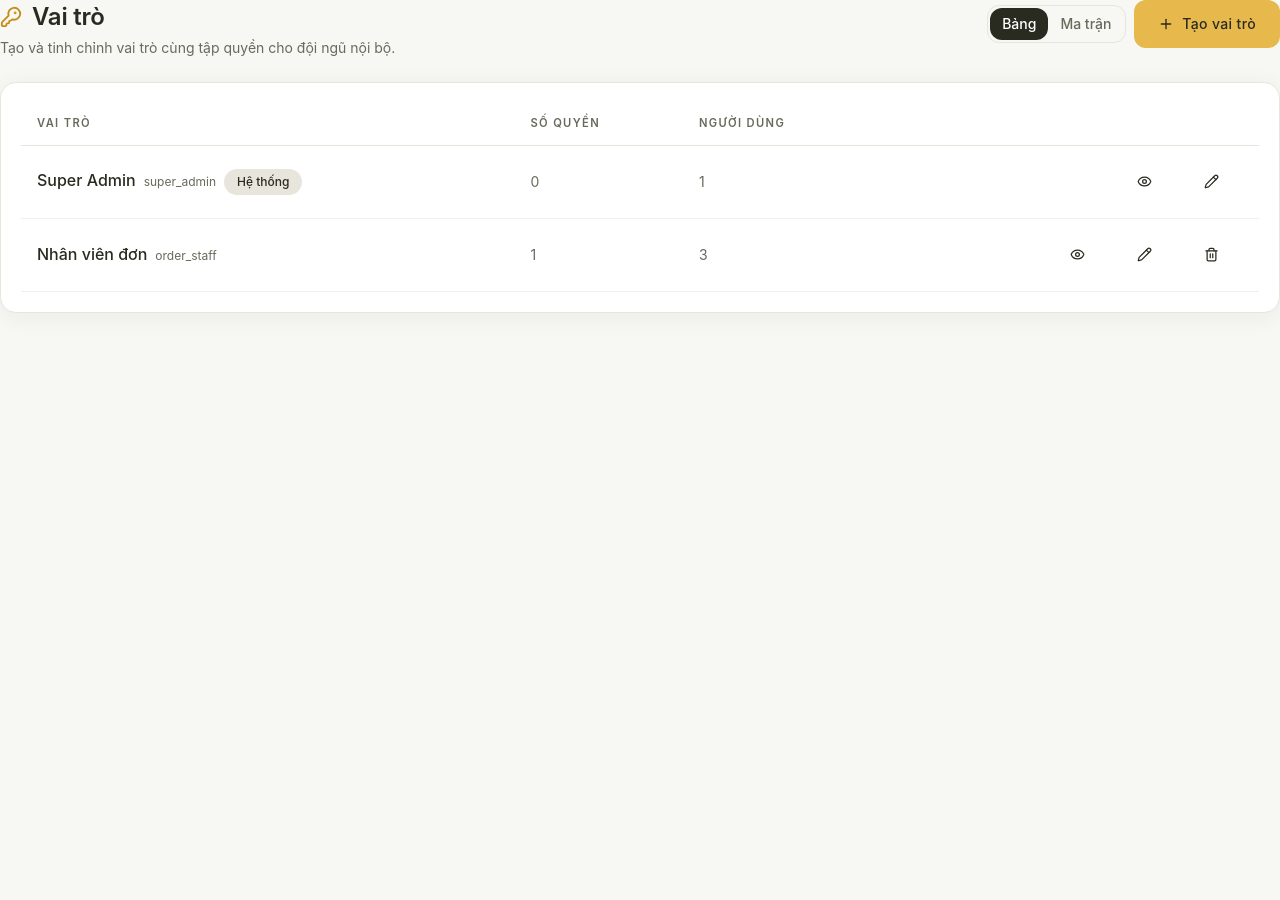
Test: AdminRolesPage › mô tả mục đích khi tạo vai trò mới
Click the button "Tạo vai trò" at (1207, 24), box [1134, 0, 1279, 48]
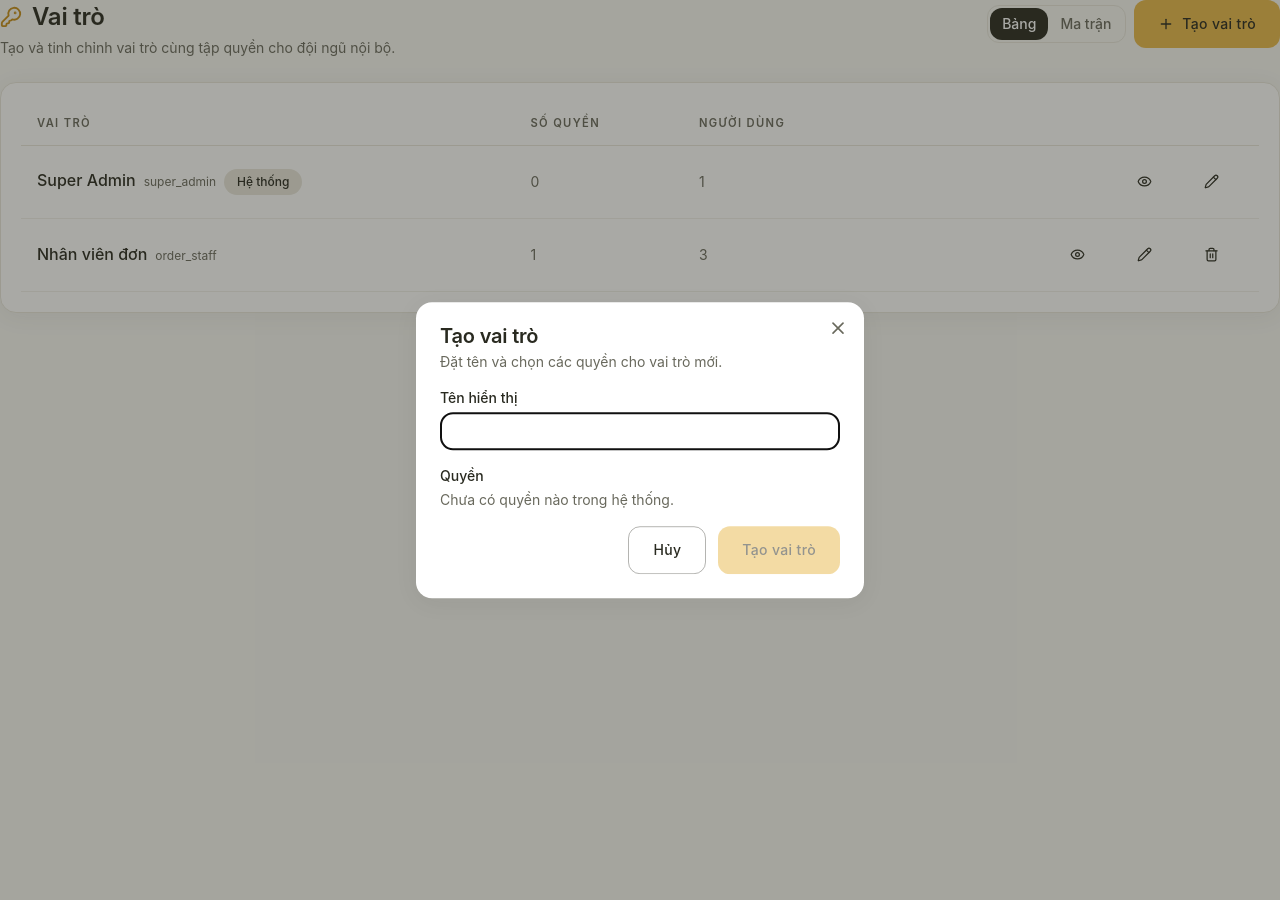
Now the text "Đặt tên và chọn các quyền cho vai trò mới." is shown, box [440, 353, 722, 370]
